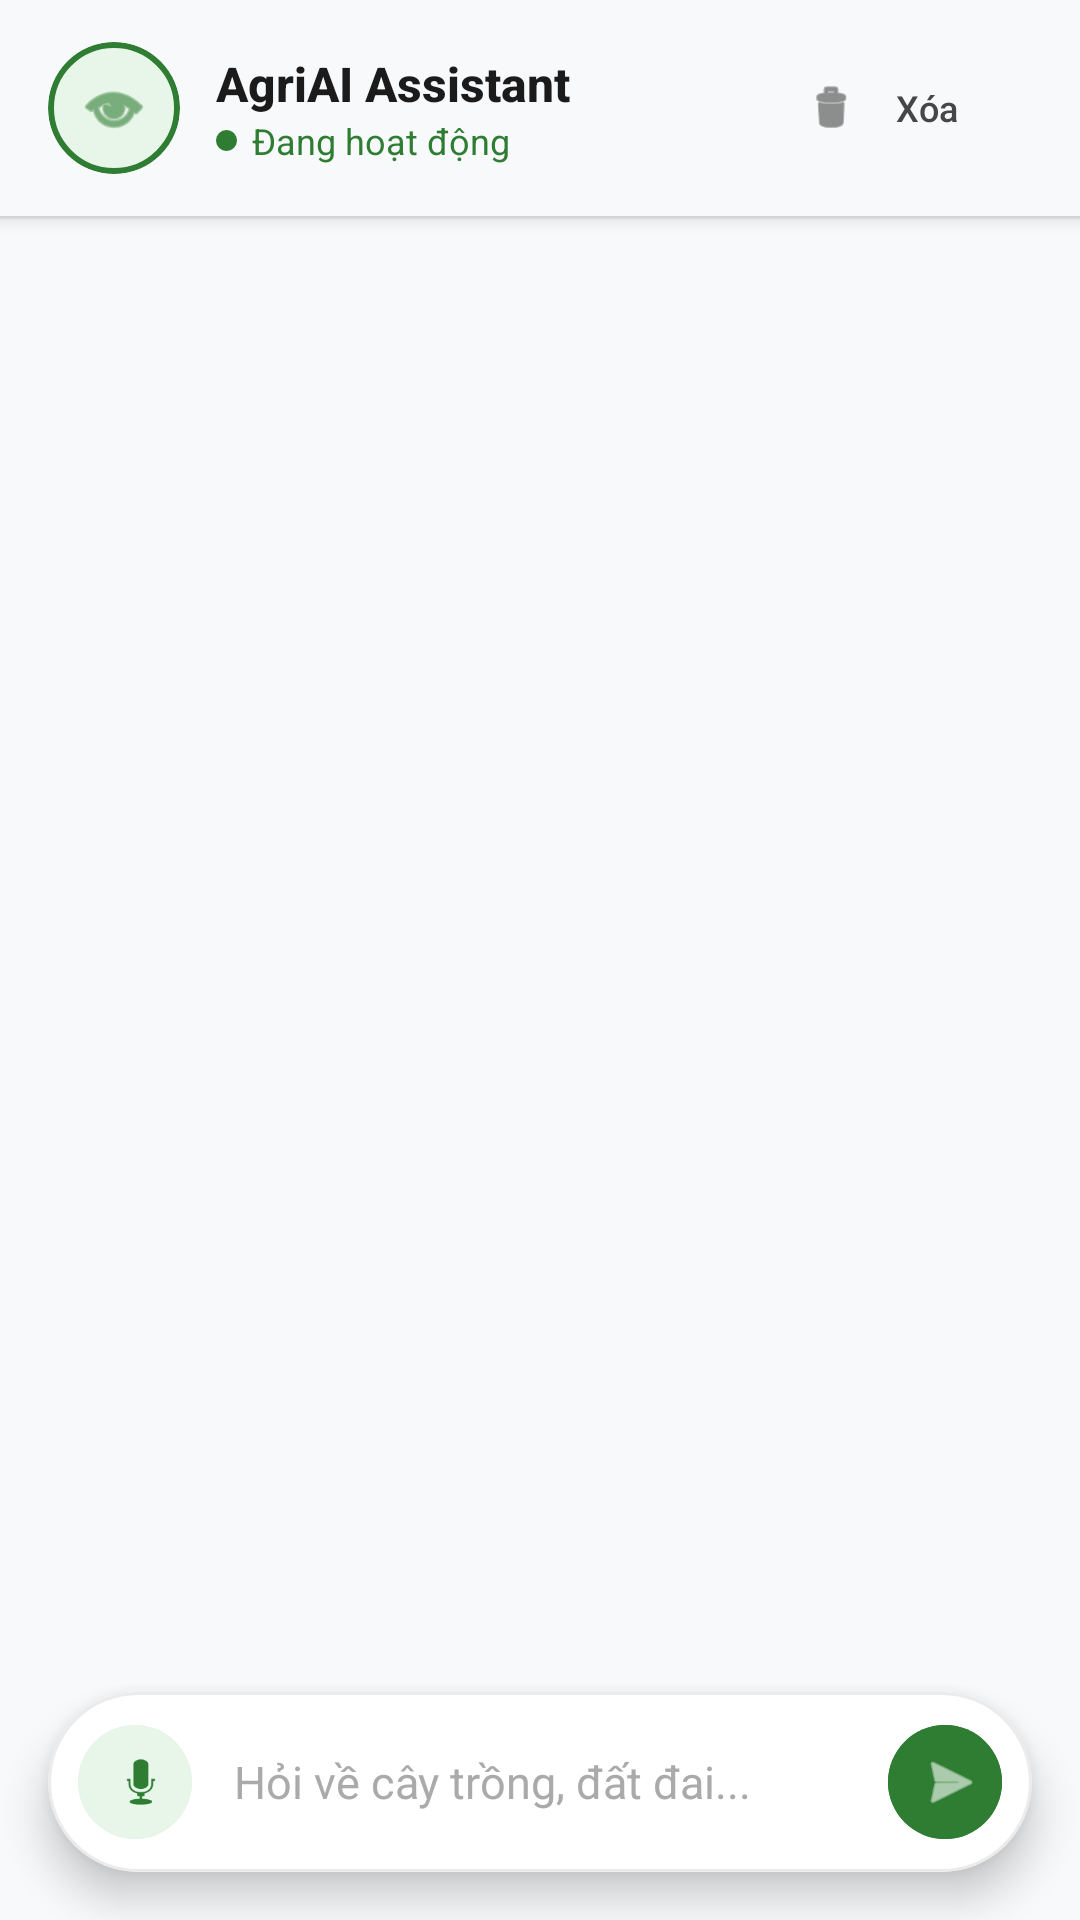

Where icons sit on this 1080w x 1920h app screen, as {"x1": x1, "y1": y1, "x2": x2, "y2": y2}:
send: {"x1": 888, "y1": 1725, "x2": 1002, "y2": 1839}
speak now: {"x1": 126, "y1": 1759, "x2": 156, "y2": 1805}
view: {"x1": 85, "y1": 91, "x2": 143, "y2": 128}
